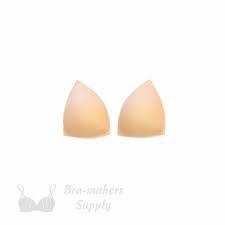Liquid: (54, 70, 188, 157)
